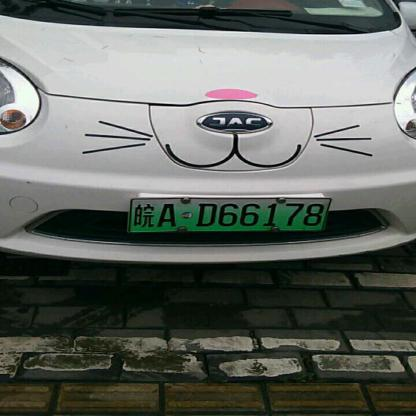lp: (128, 198, 332, 232)
